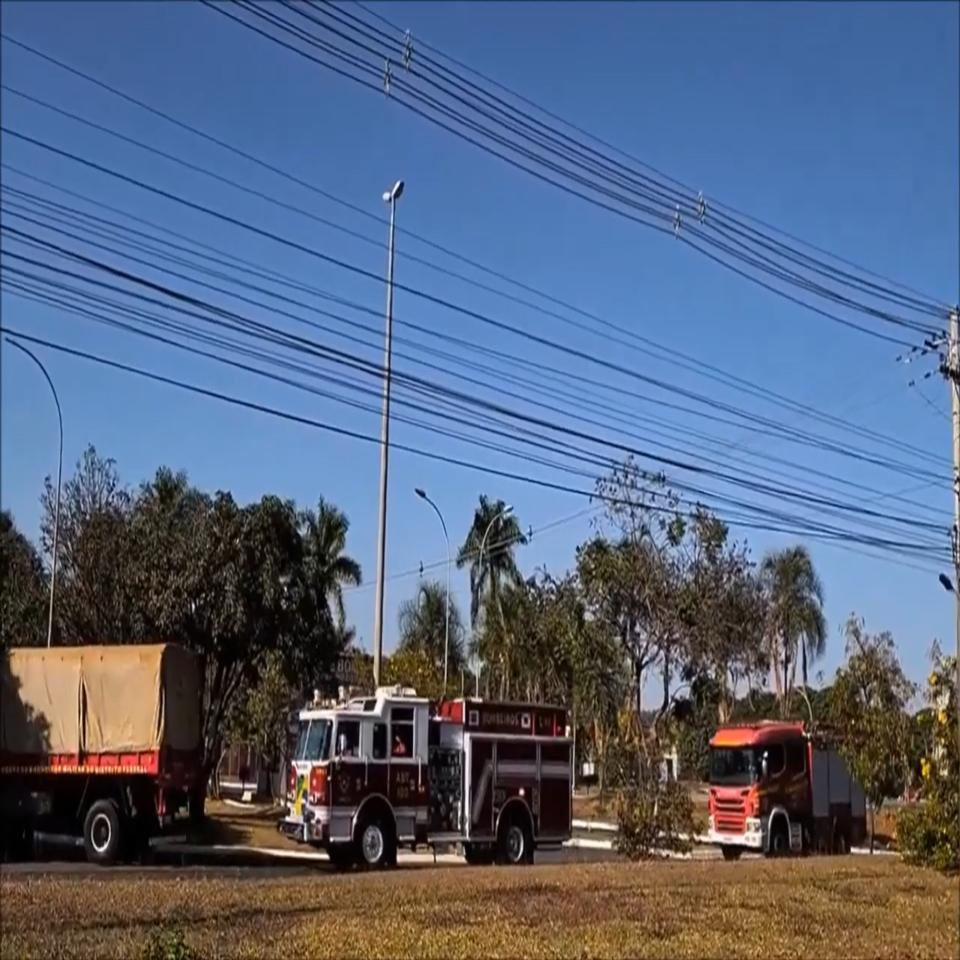viatura: (278, 685, 573, 867), (708, 718, 867, 858)
